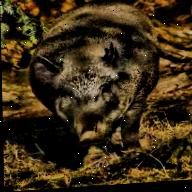boar: (39, 0, 162, 154)
